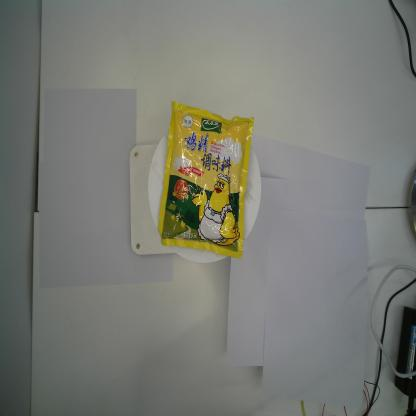Seasoner: (157, 99, 255, 260)
